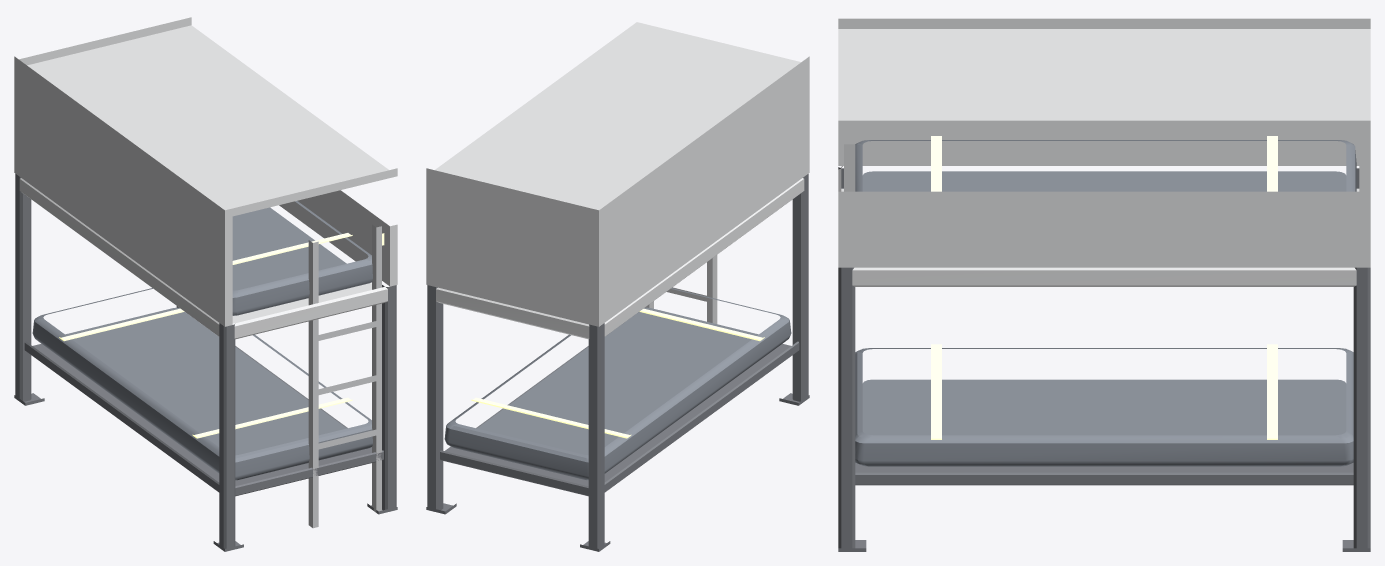
File: iter_03.glb
The picture shows the model from 3 angles, left to right: view 1: azimuth 30°, elevation 25°; view 2: azimuth 150°, elevation 25°; view 3: azimuth 270°, elevation 25°; orthographic projection. The views are drawn at different scales.
Parts seen in each view (by area): view 1: Capsule_Shell, Mattress_Lo, Posts, Mattress_Up, Ladder, Lower_Deck, Mattress_Straps; view 2: Capsule_Shell, Mattress_Lo, Posts, Lower_Deck, Mattress_Straps, Ladder; view 3: Capsule_Shell, Mattress_Lo, Mattress_Up, Posts, Lower_Deck, Mattress_Straps.
Boxes of the visible parts, x1,y1,x2,y2 form: Capsule_Shell: (14, 17, 397, 339); Mattress_Lo: (32, 288, 372, 480); Posts: (15, 174, 396, 550); Mattress_Up: (232, 201, 372, 315); Ladder: (308, 224, 381, 528); Lower_Deck: (24, 341, 383, 496); Mattress_Straps: (59, 233, 352, 438); Capsule_Shell: (426, 22, 809, 339); Mattress_Lo: (444, 288, 791, 480); Posts: (427, 174, 808, 550); Lower_Deck: (440, 341, 799, 496); Mattress_Straps: (471, 308, 764, 438); Ladder: (645, 255, 717, 323); Capsule_Shell: (838, 18, 1370, 286); Mattress_Lo: (855, 348, 1353, 466); Mattress_Up: (855, 140, 1356, 191); Posts: (838, 167, 1370, 551); Lower_Deck: (855, 462, 1353, 485); Mattress_Straps: (931, 136, 1277, 439).
Size of the model in its own units: 0.9 by 1.7 by 1.9.
